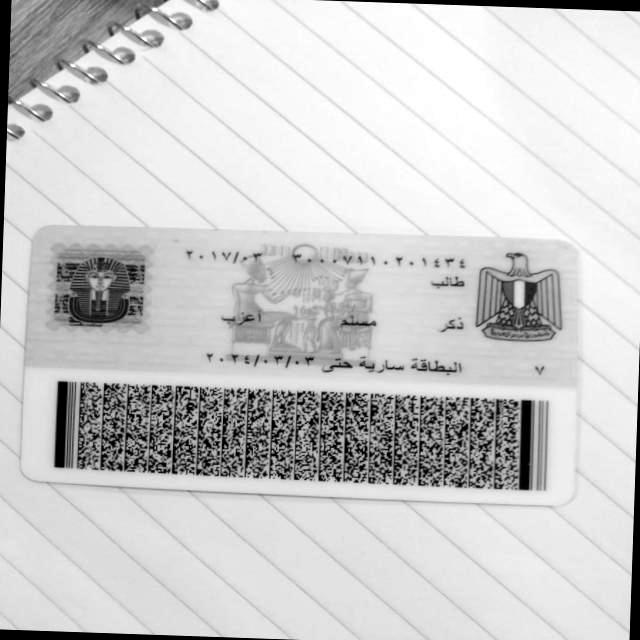back: (22, 225, 575, 504)
